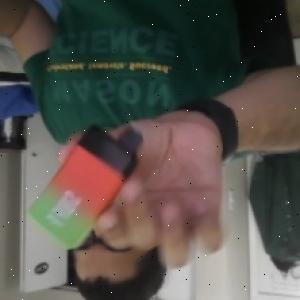Swift-E-Ciggirate: (27, 122, 145, 251)
